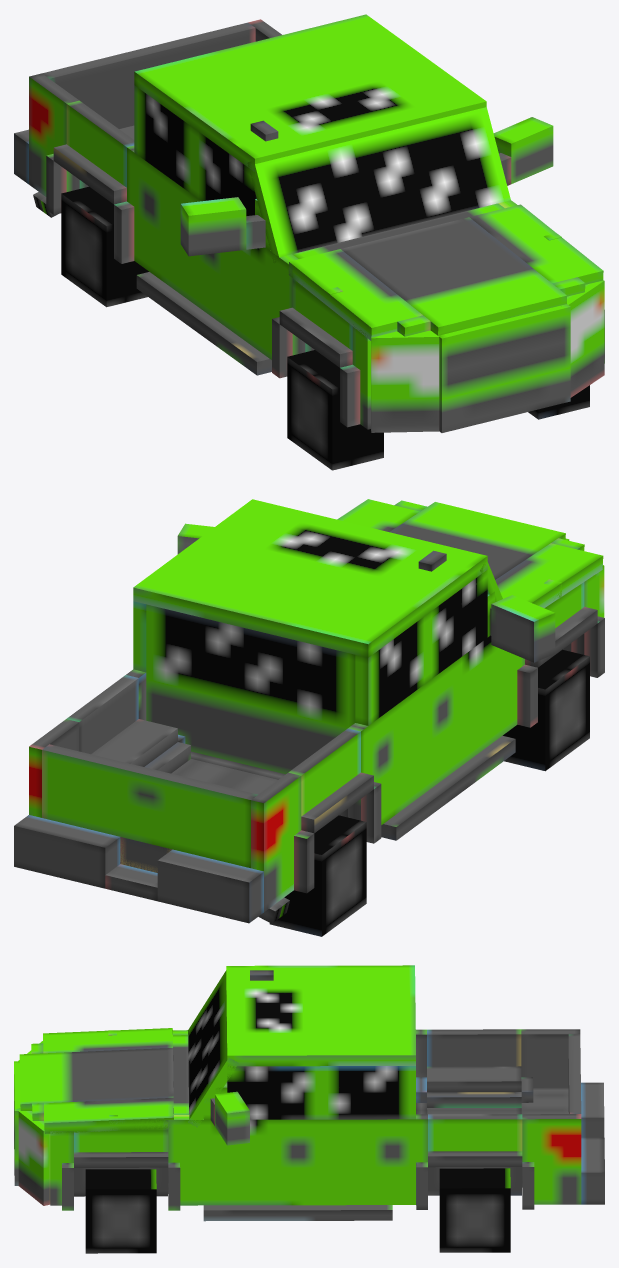
Rendered from 2014_ford_f-150_svt_raptor.fbx.
3 views of the same model, one above another, from view 1: azimuth 30°, elevation 25°; view 2: azimuth 150°, elevation 25°; view 3: azimuth 270°, elevation 25° (orthographic). The views are drawn at different scales.
Parts seen in each view (by area): view 1: Object_2; view 2: Object_2; view 3: Object_2.
Part boxes in pixels (x1,y1,x2,y2): Object_2: (14, 14, 604, 470); Object_2: (14, 499, 604, 936); Object_2: (14, 965, 604, 1253).
Size of the model in its own units: 3.51 by 2.3 by 6.21.
Materials: 1 (1 with a texture image).
